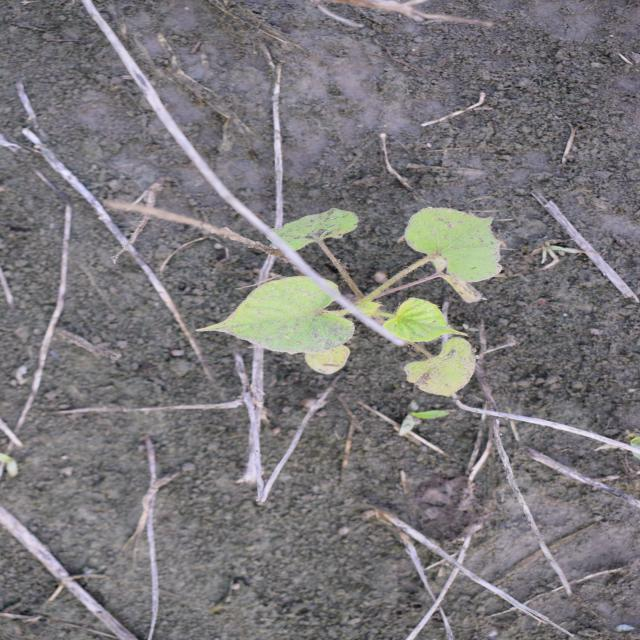MorningGlory: (190, 205, 506, 398)
